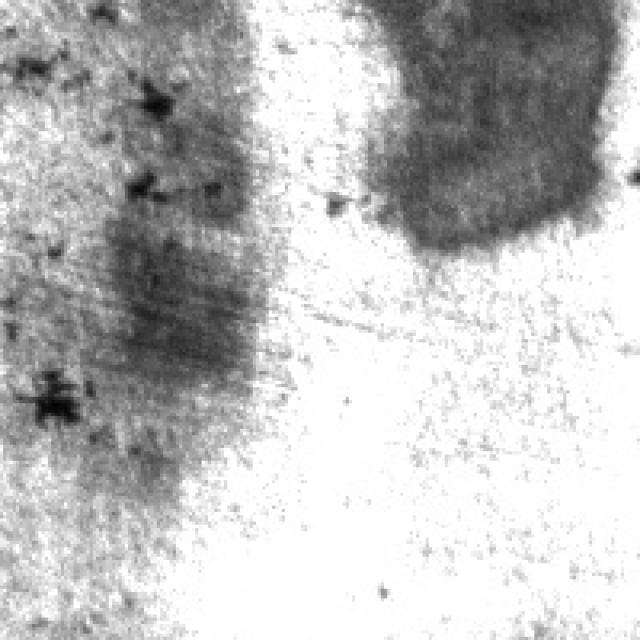patches: (362, 0, 624, 250), (96, 170, 262, 396)
